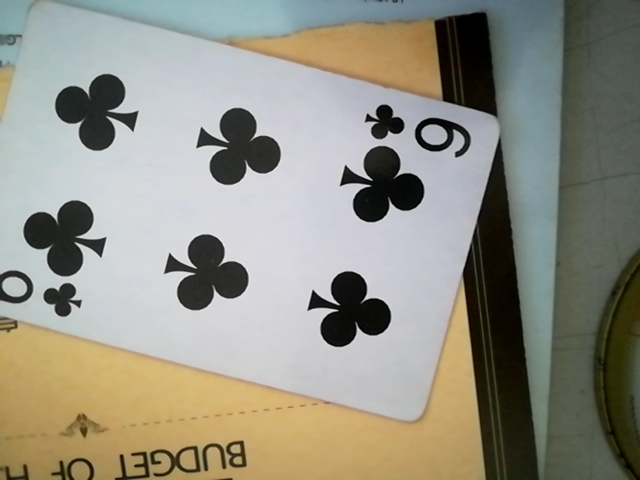mh 6: (0, 8, 511, 427)
